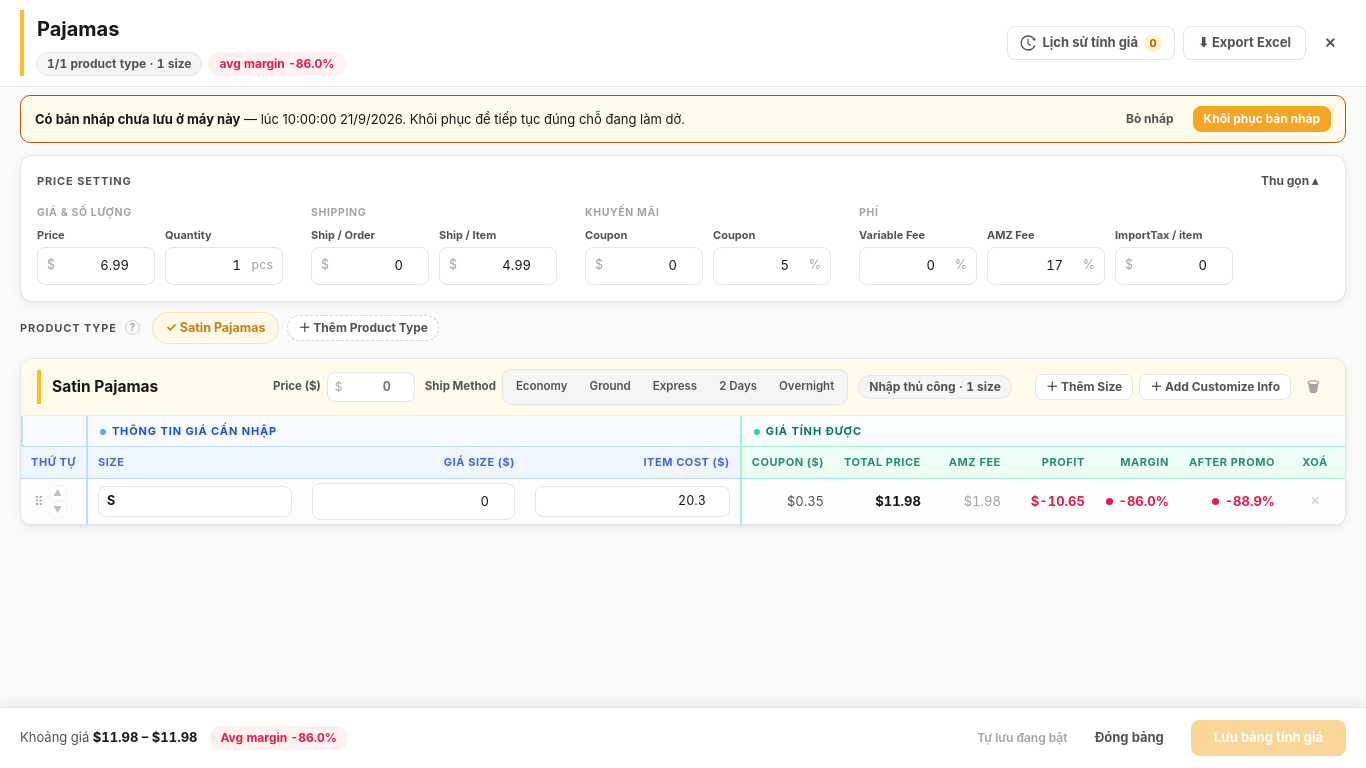
khôi phục bản nháp khi mở lại bảng › bấm Khôi phục → nạp nội dung nháp rồi tự lưu lên server
Click the button "Khôi phục bản nháp". click: [1262, 119]
box: x1=1193 y1=106 x2=1331 y2=132
Wait 3000 ms
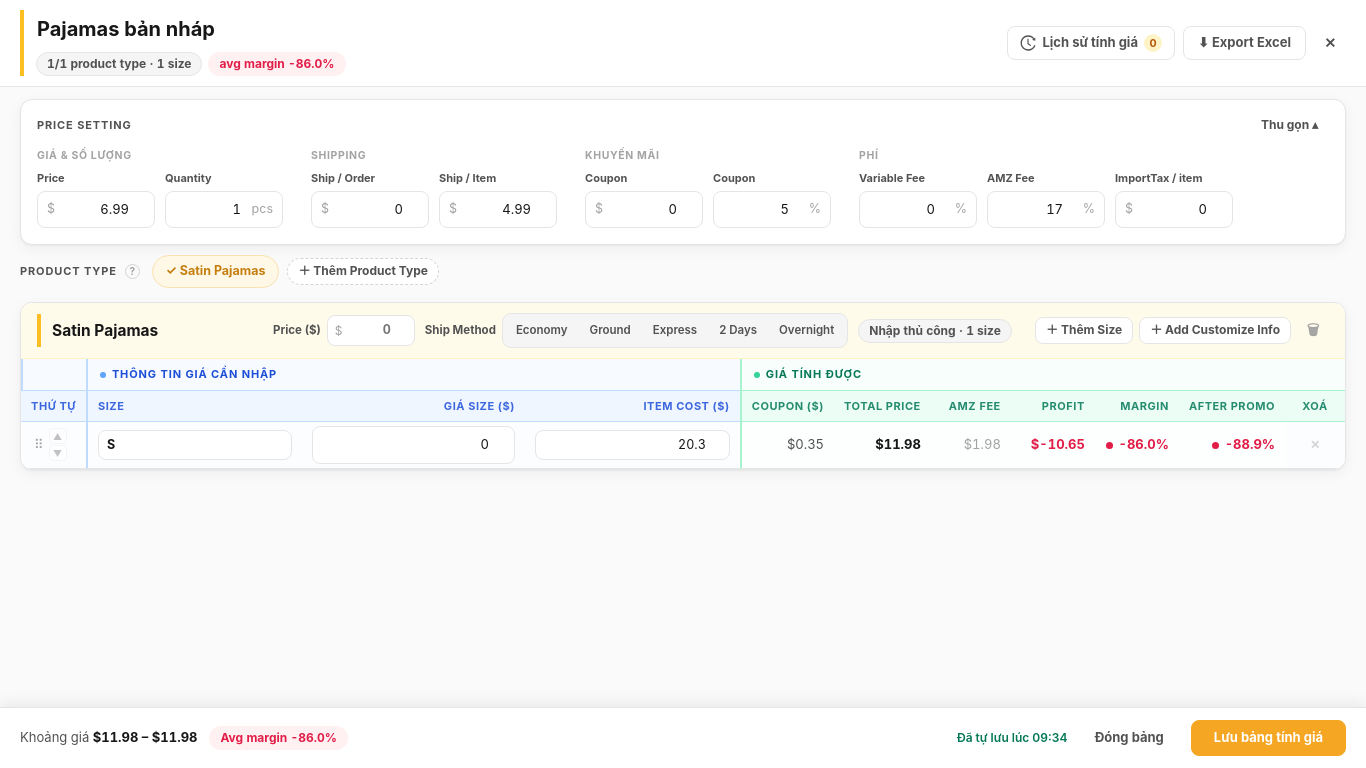
Now the field named "Tên bảng tính giá" holds "Pajamas bản nháp", box x1=28 y1=10 x2=352 y2=48
